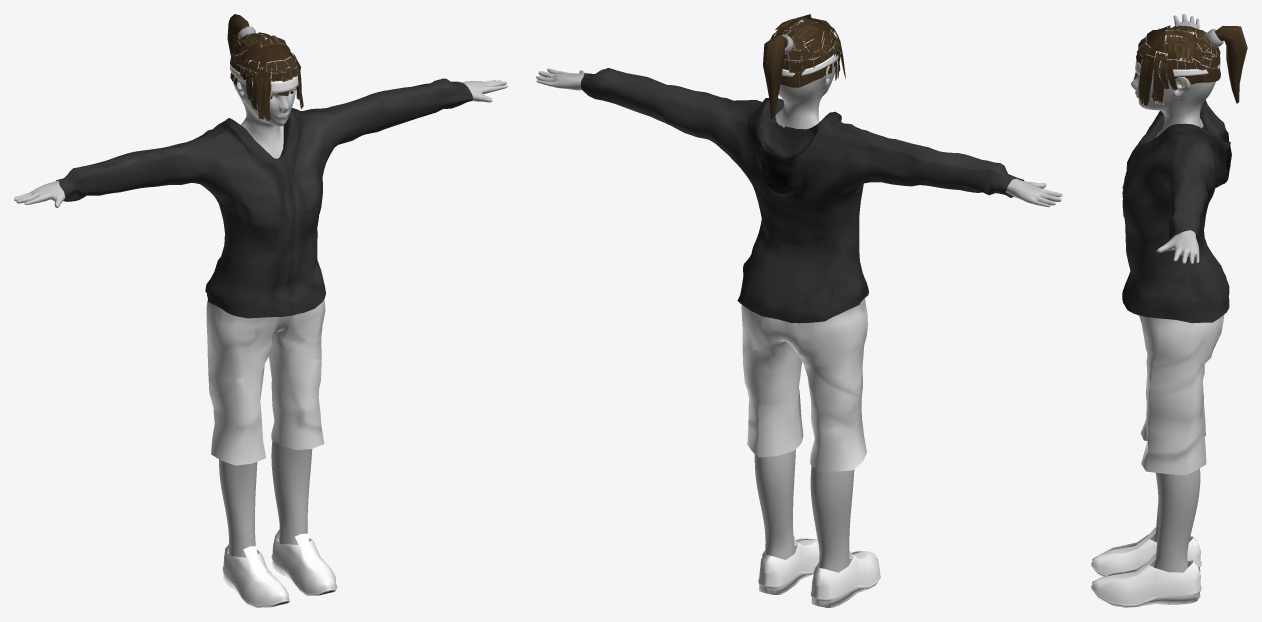
Rendered from testobj1.obj.
The picture shows the model from 3 angles, left to right: view 1: azimuth 30°, elevation 25°; view 2: azimuth 150°, elevation 25°; view 3: azimuth 270°, elevation 25°; orthographic projection. The views are drawn at different scales.
Parts seen in each view (by area): view 1: group1 torsosweater, shoes2:polySurface2, group1 HairParts, group1 head; view 2: group1 torsosweater, shoes2:polySurface2, group1 HairParts, group1 head; view 3: shoes2:polySurface2, group1 torsosweater, group1 HairParts, group1 head.
Part boxes in pixels (left/top/right/bottom): group1 torsosweater: left=14, top=78, right=507, bottom=318; shoes2:polySurface2: left=206, top=299, right=337, bottom=607; group1 HairParts: left=227, top=14, right=303, bottom=120; group1 head: left=233, top=76, right=296, bottom=158; group1 torsosweater: left=536, top=68, right=1062, bottom=323; shoes2:polySurface2: left=741, top=298, right=880, bottom=607; group1 HairParts: left=763, top=14, right=845, bottom=119; group1 head: left=775, top=61, right=837, bottom=129; shoes2:polySurface2: left=1091, top=315, right=1224, bottom=607; group1 torsosweater: left=1122, top=14, right=1231, bottom=323; group1 HairParts: left=1133, top=25, right=1247, bottom=106; group1 head: left=1131, top=74, right=1215, bottom=137.
Bounding box in the file's own units: 31.96 × 33.67 × 8.51.
